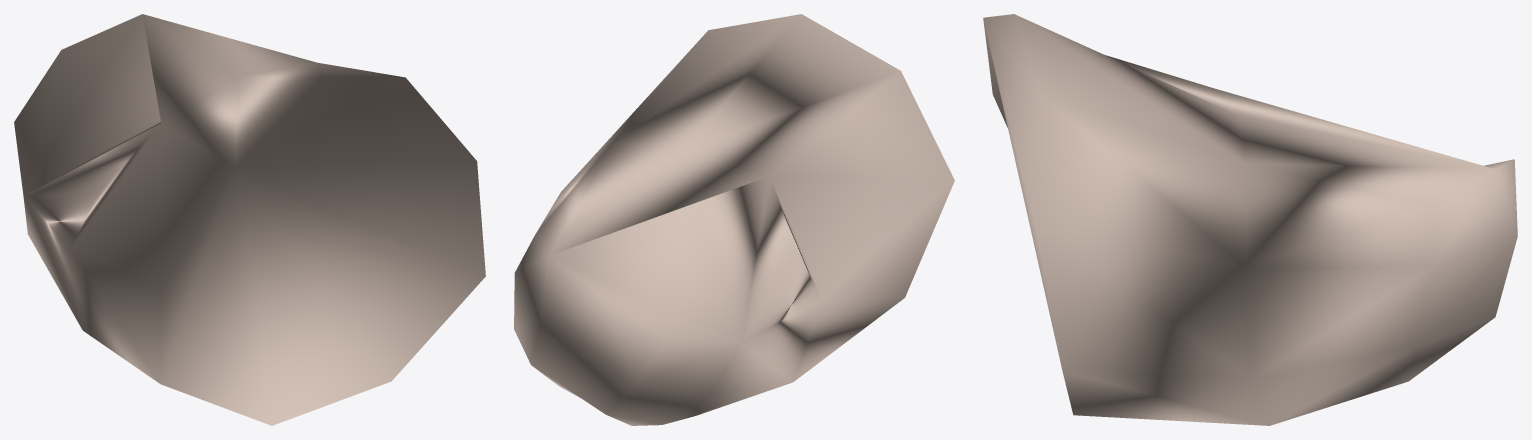
Rendered from LBaby3rdPhalange.dae.
3 renders of one model, left to right at view 1: azimuth 30°, elevation 25°; view 2: azimuth 150°, elevation 25°; view 3: azimuth 270°, elevation 25°, orthographic. The views are drawn at different scales.
Visible parts, largest first — view 1: ShapeIndexedFaceSet; view 2: ShapeIndexedFaceSet; view 3: ShapeIndexedFaceSet.
Boxes of the visible parts, x1,y1,x2,y2 form: ShapeIndexedFaceSet: (14, 14, 485, 425); ShapeIndexedFaceSet: (514, 14, 954, 425); ShapeIndexedFaceSet: (983, 14, 1517, 425).
Bounding box in the file's own units: 0.0144 × 0.0184 × 0.0145.
